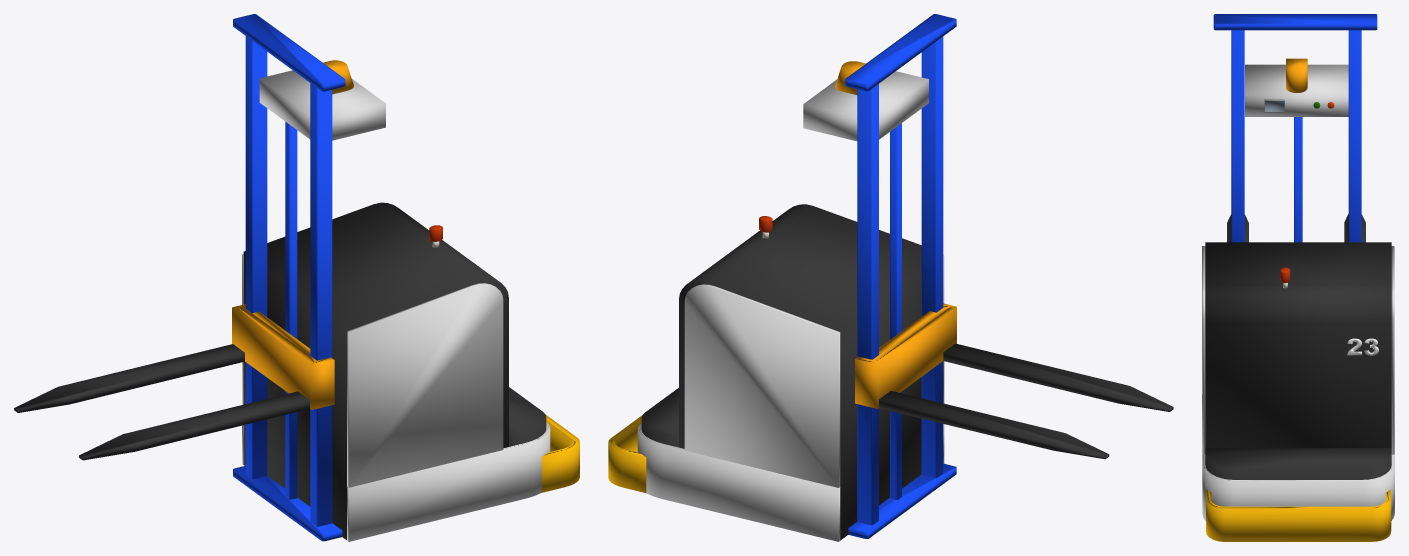
File: forklift.obj
The picture shows the model from 3 angles, left to right: view 1: azimuth 30°, elevation 25°; view 2: azimuth 150°, elevation 25°; view 3: azimuth 270°, elevation 25°; orthographic projection. The views are drawn at different scales.
Parts seen in each view (by area): view 1: Rectangle193593, Rectangle193589, Rectangle193595, Rectangle193597, Rectangle193591, Line74576, Box244615, Rectangle193601, Rectangle193600, Rectangle193592, Rectangle193590, Rectangle193599 (+2 smaller); view 2: Rectangle193594, Rectangle193589, Rectangle193595, Rectangle193591, Rectangle193597, Line74576, Box244615, Rectangle193600, Rectangle193601, Rectangle193592, Rectangle193590, Rectangle193599 (+2 smaller); view 3: Rectangle193589, Rectangle193599, Shape1134, Rectangle193595, Box244615, Rectangle193597, Rectangle193591, Rectangle193590, Rectangle193592, Rectangle193593, Rectangle193594, Rectangle193596 (+4 smaller).
Boxes of the visible parts, x1,y1,x2,y2 form: Rectangle193593: [347, 283, 503, 487]; Rectangle193589: [243, 202, 508, 539]; Rectangle193595: [242, 422, 550, 541]; Rectangle193597: [310, 83, 332, 526]; Rectangle193591: [245, 36, 267, 479]; Line74576: [232, 304, 334, 409]; Box244615: [259, 70, 385, 140]; Rectangle193601: [79, 391, 309, 460]; Rectangle193600: [14, 344, 244, 412]; Rectangle193592: [285, 121, 297, 499]; Rectangle193590: [233, 14, 345, 91]; Rectangle193599: [541, 415, 579, 492]; Rectangle193594: [684, 284, 840, 487]; Rectangle193589: [679, 204, 921, 540]; Rectangle193595: [637, 423, 944, 541]; Rectangle193591: [857, 84, 878, 525]; Rectangle193597: [921, 36, 943, 477]; Line74576: [855, 303, 956, 408]; Box244615: [803, 71, 928, 141]; Rectangle193600: [879, 391, 1109, 459]; Rectangle193601: [943, 343, 1173, 411]; Rectangle193592: [890, 123, 901, 499]; Rectangle193590: [845, 14, 956, 91]; Rectangle193599: [608, 415, 646, 492]; Rectangle193589: [1205, 242, 1391, 448]; Rectangle193599: [1206, 489, 1391, 541]; Shape1134: [1205, 448, 1391, 479]; Rectangle193595: [1202, 394, 1394, 520]; Box244615: [1245, 64, 1348, 116]; Rectangle193597: [1231, 30, 1244, 242]; Rectangle193591: [1348, 30, 1361, 242]; Rectangle193590: [1213, 14, 1377, 30]; Rectangle193592: [1294, 117, 1302, 242]; Rectangle193593: [1202, 246, 1205, 454]; Rectangle193594: [1391, 246, 1394, 454]; Rectangle193596: [1286, 58, 1307, 92].
Bounding box in the file's own units: 1413 × 1259 × 533.
